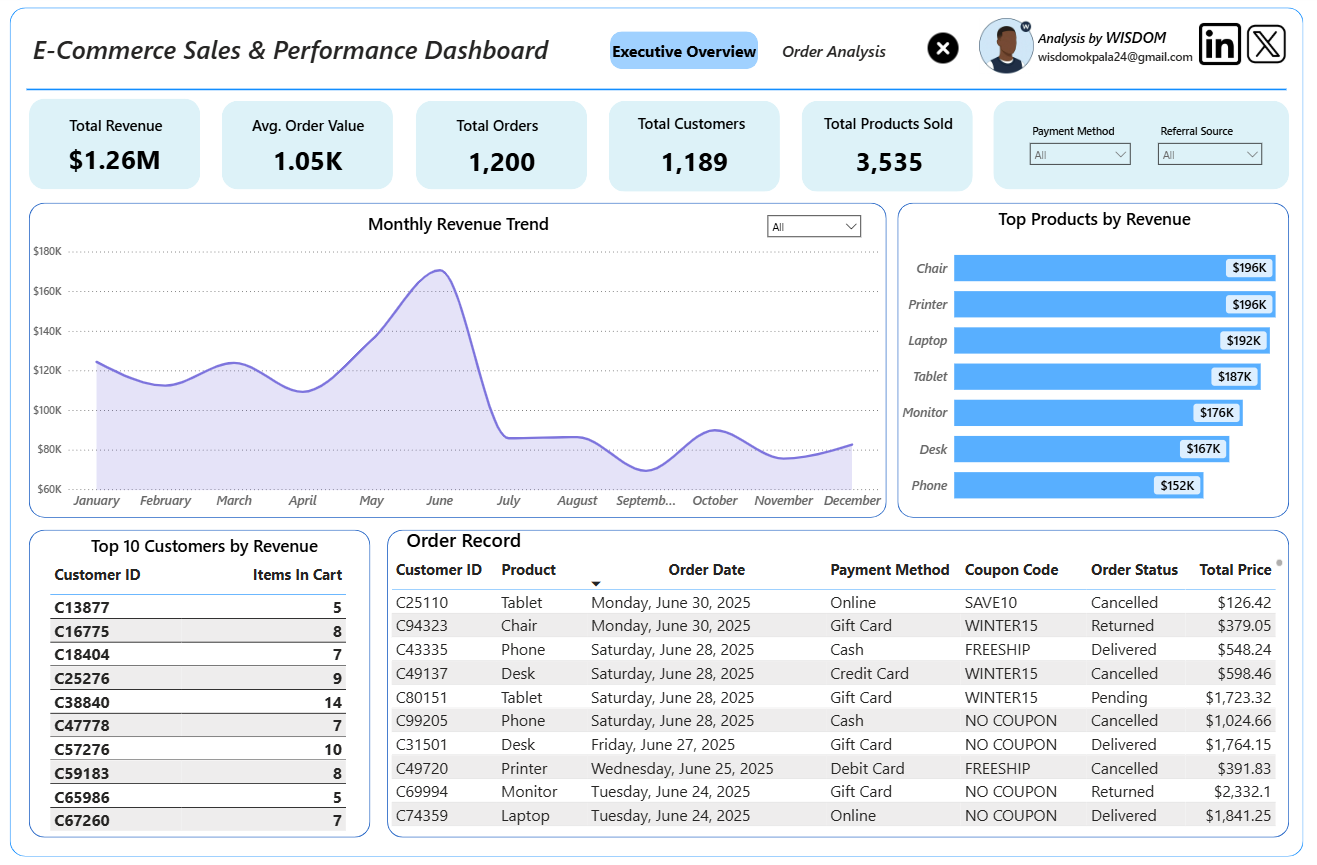

The page's visual inventory and layout, read from the dashboard file:
{"tool":"powerbi","page":{"name":"Executive Overview","canvas":[1700,1100],"ordinal":0},"visuals":[{"type":"shape","box":[28.4,10.6,1640.7,1077.1],"z":0},{"type":"textbox","box":[1327.3,30.4,209.6,45.6],"z":1000},{"type":"shape","box":[52.7,126.1,217.2,115.5],"z":2000},{"type":"shape","box":[506.9,673,1143.9,390.4],"z":3000},{"type":"shape","box":[52.7,673,433,390.4],"z":4000},{"type":"shape","box":[53.2,258.3,1087.7,399.5],"z":5000},{"type":"shape","box":[1154.6,258.3,496.8,399.5],"z":6000},{"type":"shape","box":[49.7,100.3,1598.2,28.9],"z":7000},{"type":"tableEx","title":"TOP 10 CUSTOMERS BY REVENUE","fields":{"Values":["Cleaned Data.Customer ID","Sum(Cleaned Data.Items In Cart)"]},"box":[74,711,401.1,352.4],"z":8000},{"type":"tableEx","title":"CUSTOMER INFO.","fields":{"Values":["Cleaned Data.Customer ID","Cleaned Data.Product","Cleaned Data.Date","Cleaned Data.Payment Method","Cleaned Data.Coupon Code","Cleaned Data.Order Status","Sum(Cleaned Data.Total Price)"]},"box":[506.9,704.9,1140.9,352.4],"z":9000},{"type":"lineChart","fields":{"Y":["KPIs.Total Revenue"],"Category":["Cleaned Data.Date.Variation.Date Hierarchy.Month"]},"box":[53.2,305.4,1087.7,352.4],"z":10000},{"type":"clusteredBarChart","fields":{"Category":["Cleaned Data.Product"],"Y":["KPIs.Total Revenue"]},"box":[1154.6,293.2,493.7,364.6],"z":11000},{"type":"card","fields":{"Values":["KPIs.Total Revenue"]},"box":[67.9,161,186.9,83.6],"z":12000},{"type":"textbox","box":[1254.8,258.3,299.3,59.2],"z":13000},{"type":"textbox","box":[110.4,673,329.7,60.8],"z":14000},{"type":"textbox","box":[506.9,663.9,194.5,59.2],"z":15000},{"type":"textbox","box":[448.2,264.3,299.3,59.2],"z":16000},{"type":"image","box":[1254.4,24.3,76,69.9],"z":17000},{"type":"textbox","box":[1327.3,57.7,220.3,31.9],"z":18000},{"type":"image","box":[1596.2,30.4,51.7,53.2],"z":19000},{"type":"image","box":[1532.4,30.4,62.3,53.2],"z":20000},{"type":"pageNavigator","box":[790,41,379.8,48.6],"z":21000},{"type":"slicer","fields":{"Values":["Cleaned Data.Date.Variation.Date Hierarchy.Year"]},"box":[979.9,264.3,138.2,41],"z":22000},{"type":"image","box":[1189,42.5,45.6,39.5],"z":23000},{"type":"textbox","box":[87.6,142.8,150.4,42.5],"z":24000},{"type":"shape","box":[297.3,129.1,217.2,112.4],"z":25000},{"type":"card","fields":{"Values":["KPIs.Average Order Value"]},"box":[312.5,162.6,186.9,83.6],"z":26000},{"type":"textbox","box":[323.1,142.8,167.1,42.5],"z":27000},{"type":"shape","box":[1032.6,129.1,217.2,115.5],"z":28000},{"type":"shape","box":[543.4,129.1,217.2,112.4],"z":29000},{"type":"shape","box":[788,129.1,217.2,115.5],"z":30000},{"type":"card","fields":{"Values":["KPIs.Total Orders"]},"box":[573.8,164.1,156.5,83.6],"z":31000},{"type":"card","fields":{"Values":["KPIs.Total Customers"]},"box":[813.8,164.1,165.6,83.6],"z":32000},{"type":"card","fields":{"Values":["KPIs.Total Products Sold"]},"box":[1061.4,164.1,165.6,83.6],"z":33000},{"type":"textbox","box":[563.1,142.8,167.1,42.5],"z":34000},{"type":"textbox","box":[809.2,139.8,167.1,42.5],"z":35000},{"type":"textbox","box":[1044.7,139.8,196,42.5],"z":36000},{"type":"shape","box":[1275.6,129.1,375.2,112.4],"z":37000},{"type":"slicer","fields":{"Values":["Cleaned Data.Payment Method"]},"box":[1312.1,153.4,147.3,66.8],"z":38000},{"type":"slicer","fields":{"Values":["Cleaned Data.Referral Source"]},"box":[1474.6,153.4,151.9,66.8],"z":39000},{"type":"textbox","box":[53.2,36.5,695.8,80.5],"z":40000}]}

Visuals, with their boxes in screenshot pixels (x1, y1, x2, y2), scaled from the page's 1700x1100 canvas onto the 1317x865 screenshot:
shape: box(22, 8, 1293, 855)
textbox: box(1028, 24, 1191, 60)
shape: box(41, 99, 209, 190)
shape: box(393, 529, 1279, 836)
shape: box(41, 529, 376, 836)
shape: box(41, 203, 884, 517)
shape: box(894, 203, 1279, 517)
shape: box(39, 79, 1277, 102)
"TOP 10 CUSTOMERS BY REVENUE" tableEx: box(57, 559, 368, 836)
"CUSTOMER INFO." tableEx: box(393, 554, 1277, 831)
lineChart - KPIs.Total Revenue x Cleaned Data.Date.Variation.Date Hierarchy.Month: box(41, 240, 884, 517)
clusteredBarChart - Cleaned Data.Product x KPIs.Total Revenue: box(894, 231, 1277, 517)
card - KPIs.Total Revenue: box(53, 127, 197, 192)
textbox: box(972, 203, 1204, 250)
textbox: box(86, 529, 341, 577)
textbox: box(393, 522, 543, 569)
textbox: box(347, 208, 579, 254)
image: box(972, 19, 1031, 74)
textbox: box(1028, 45, 1199, 70)
image: box(1237, 24, 1277, 66)
image: box(1187, 24, 1235, 66)
pageNavigator: box(612, 32, 906, 70)
slicer - Cleaned Data.Date.Variation.Date Hierarchy.Year: box(759, 208, 866, 240)
image: box(921, 33, 956, 64)
textbox: box(68, 112, 184, 146)
shape: box(230, 102, 399, 190)
card - KPIs.Average Order Value: box(242, 128, 387, 194)
textbox: box(250, 112, 380, 146)
shape: box(800, 102, 968, 192)
shape: box(421, 102, 589, 190)
shape: box(610, 102, 779, 192)
card - KPIs.Total Orders: box(445, 129, 566, 195)
card - KPIs.Total Customers: box(630, 129, 759, 195)
card - KPIs.Total Products Sold: box(822, 129, 951, 195)
textbox: box(436, 112, 566, 146)
textbox: box(627, 110, 756, 143)
textbox: box(809, 110, 961, 143)
shape: box(988, 102, 1279, 190)
slicer - Cleaned Data.Payment Method: box(1016, 121, 1131, 173)
slicer - Cleaned Data.Referral Source: box(1142, 121, 1260, 173)
textbox: box(41, 29, 580, 92)
